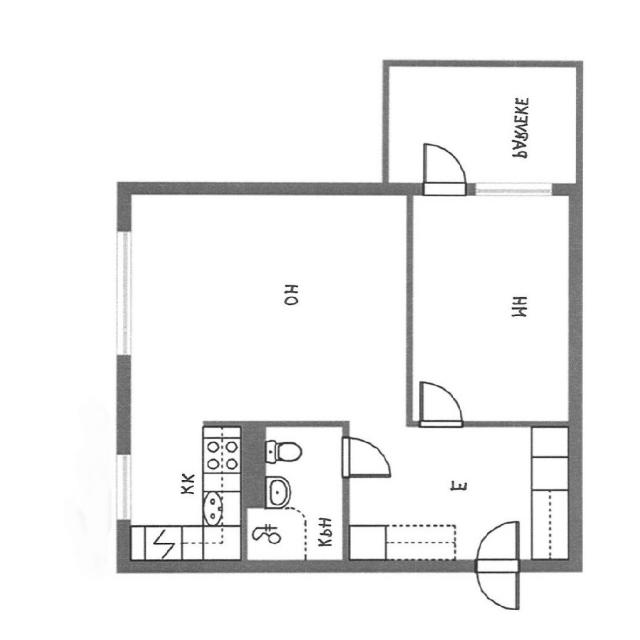door: (478, 559, 520, 612), (478, 520, 520, 572), (424, 145, 464, 196), (341, 436, 391, 475), (420, 381, 463, 426)
